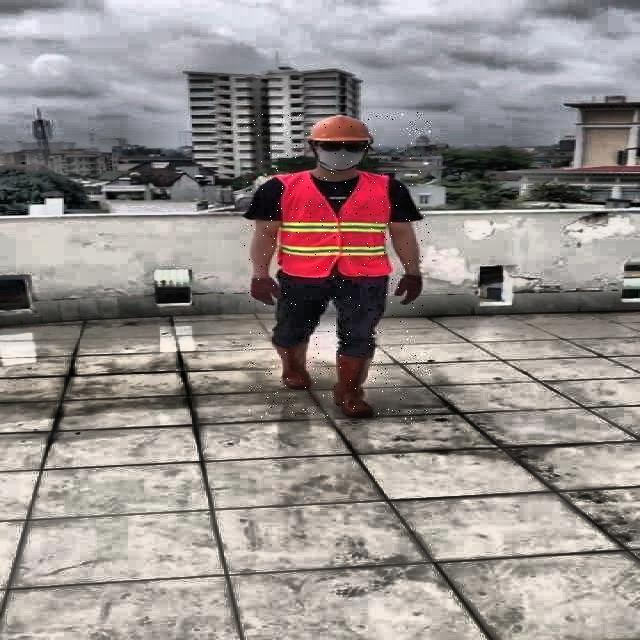safety_helmet: (307, 114, 378, 144)
safety_jacket: (276, 172, 392, 277)
